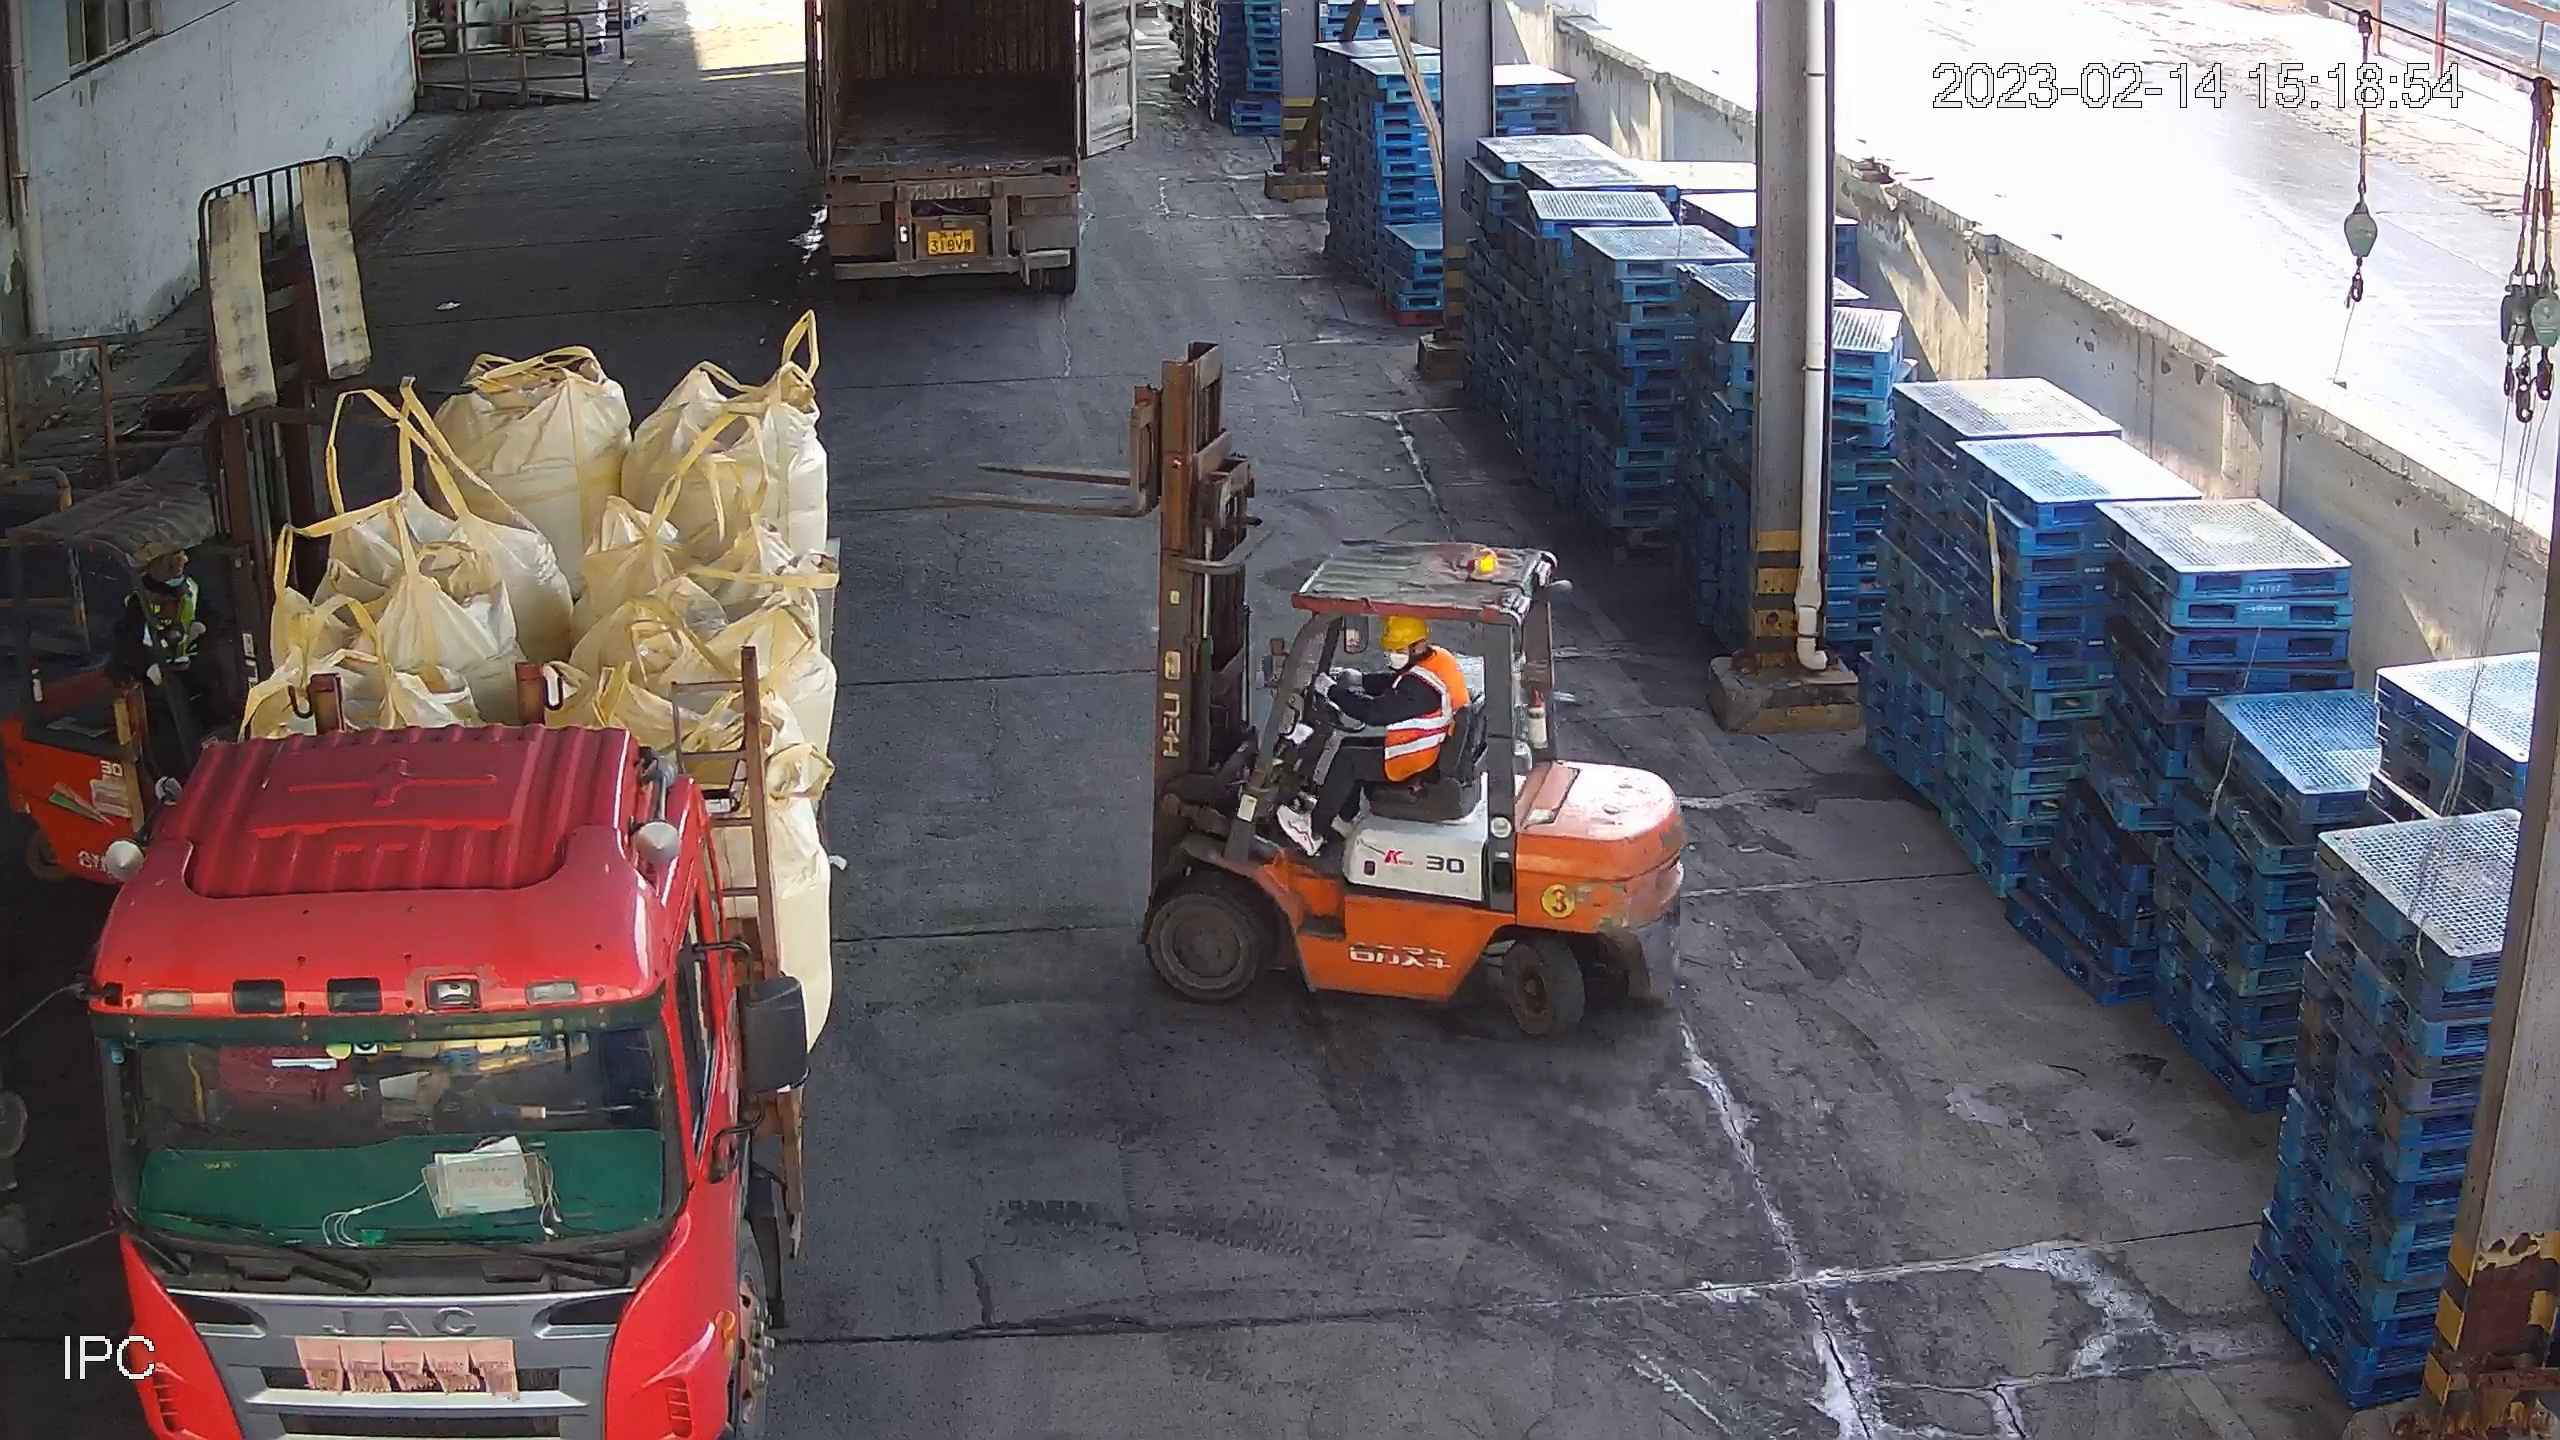head: (1380, 616, 1463, 702)
helmet: (1380, 616, 1425, 649)
people: (1272, 616, 1469, 858)
truck: (1, 539, 842, 1440), (804, 1, 1132, 294)
